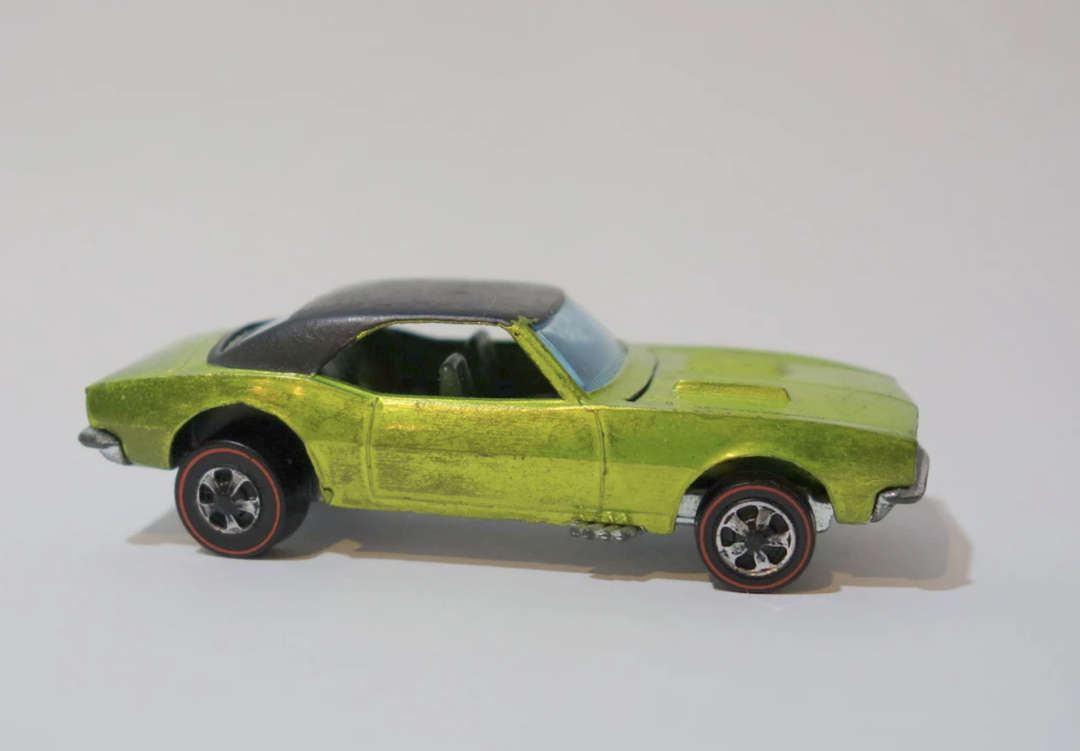Car: (74, 250, 940, 605)
